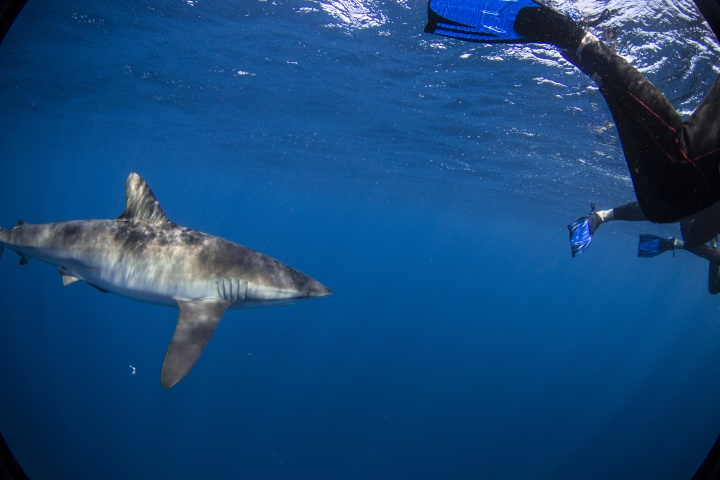Sedoso: (1, 169, 350, 400)
